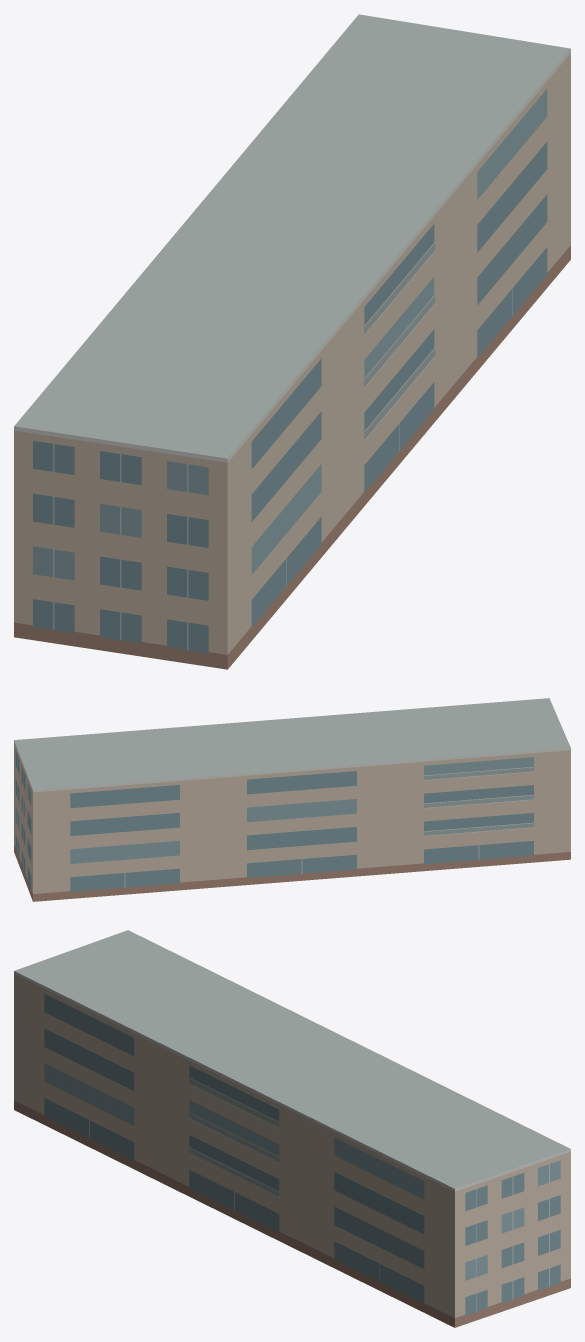
The model's file is survey-upis-32856186.glb.
3 renders of one model, top to bottom at view 1: azimuth 30°, elevation 25°; view 2: azimuth 150°, elevation 25°; view 3: azimuth 270°, elevation 25°, orthographic. The views are drawn at different scales.
Visible parts, largest first — view 1: survey-upis-32856186.tmp; view 2: survey-upis-32856186.tmp; view 3: survey-upis-32856186.tmp.
Boxes of the visible parts, box(x1,y1,x2,y2) form: survey-upis-32856186.tmp: box(14, 14, 570, 669); survey-upis-32856186.tmp: box(14, 698, 570, 901); survey-upis-32856186.tmp: box(14, 930, 570, 1327).
Bounding box in the file's own units: 48.7 × 12.2 × 44.28.
